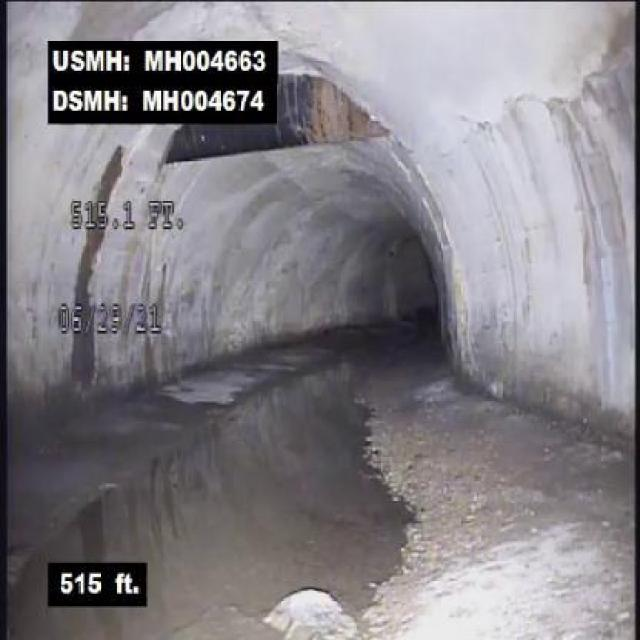Crack: (452, 48, 623, 140)
Debris: (257, 583, 358, 639)
